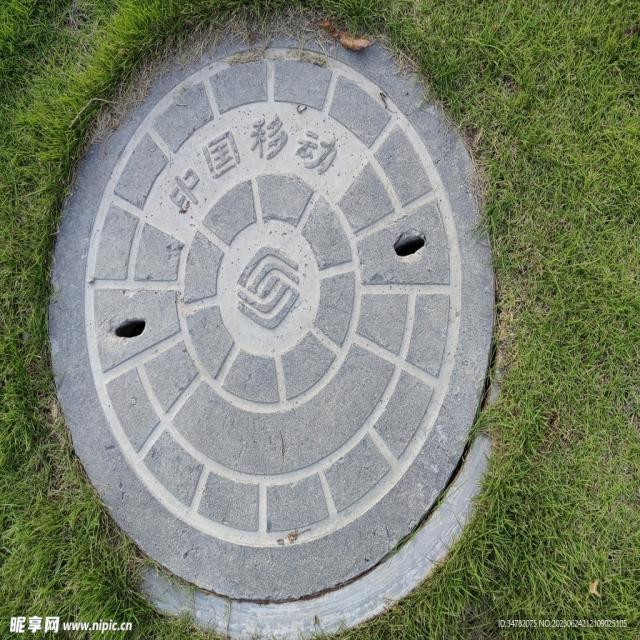manhole: (47, 23, 496, 610)
